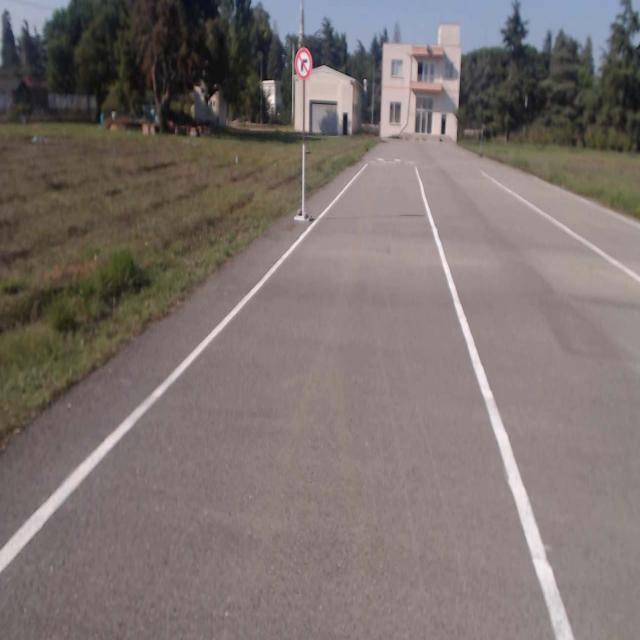sagadonulmez: (295, 48, 311, 78)
